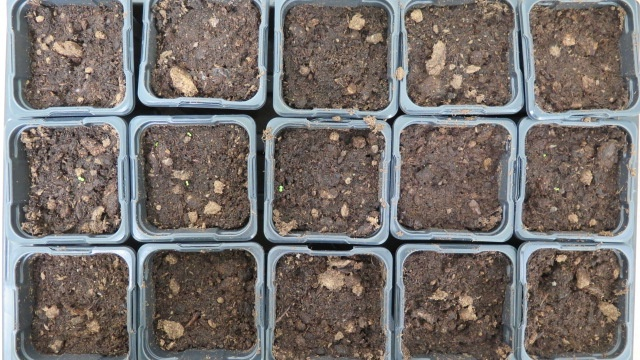weed: (73, 175, 87, 182), (277, 184, 286, 193)
